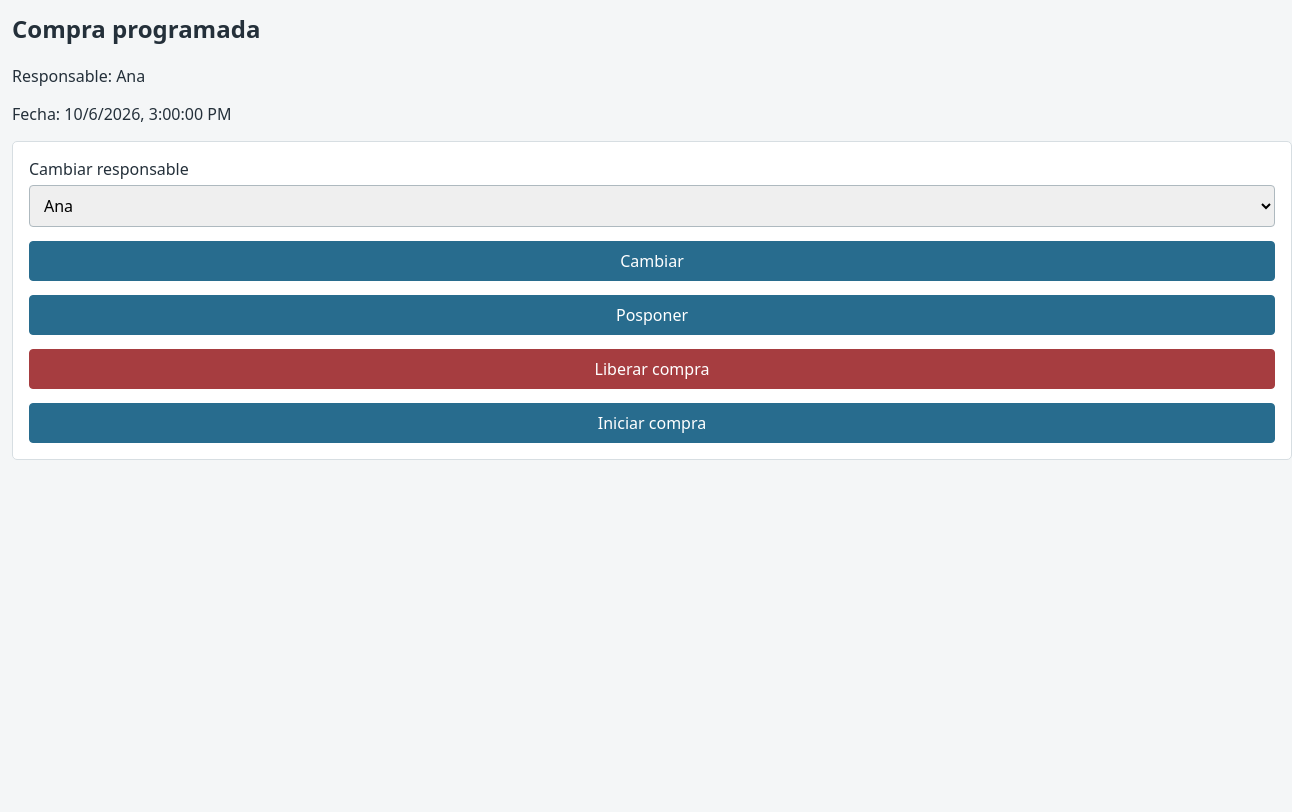
PurchasePage › la postergación valida la fecha y sólo cierra tras éxito (resultado: success)
The width and height of the screenshot is (1292, 812).
Click the button "Posponer" at (652, 315), box [29,295,1275,335]
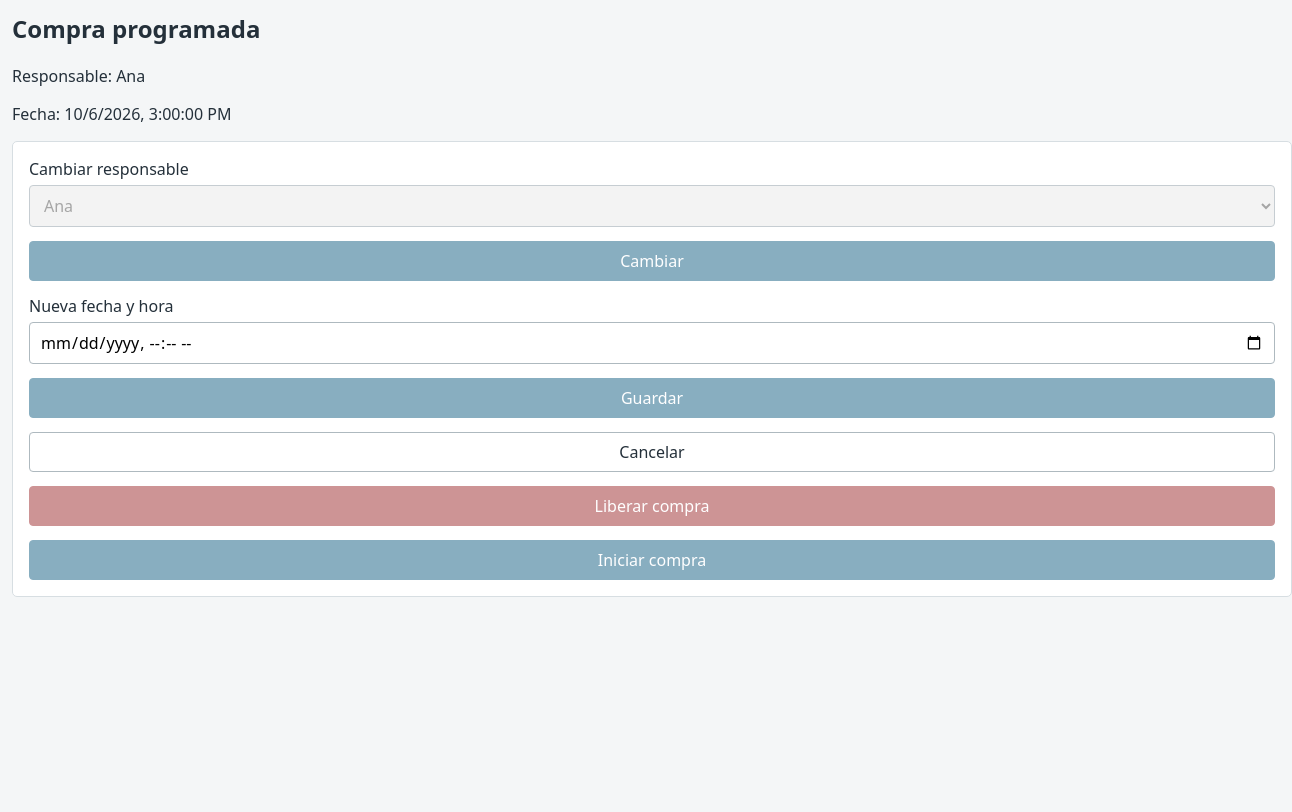
Result: the button "Guardar" is disabled at [29,378,1275,418]
Type "2026-10-06T15:05" into the field labelled "Nueva fecha y hora" at (652, 343), box [29,322,1275,364]
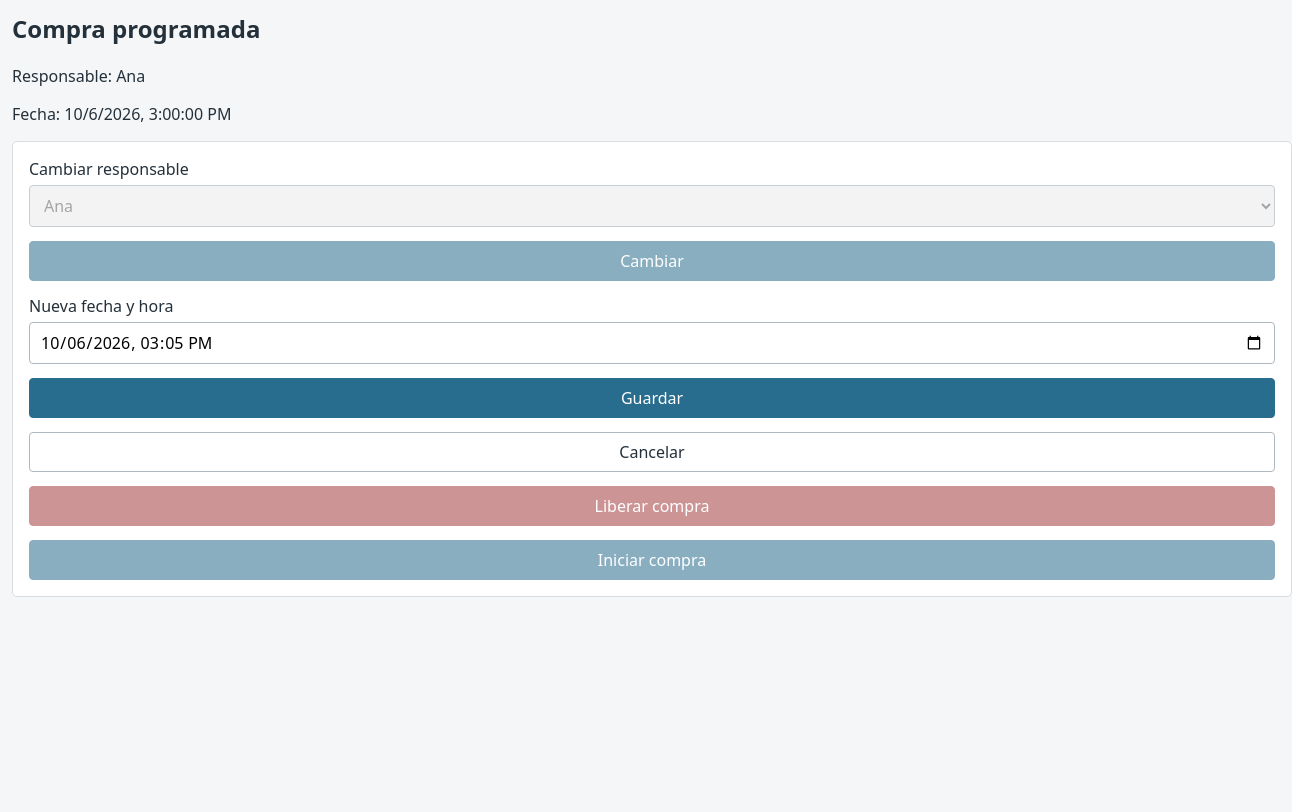
Click the button "Guardar" at (652, 398), box [29,378,1275,418]
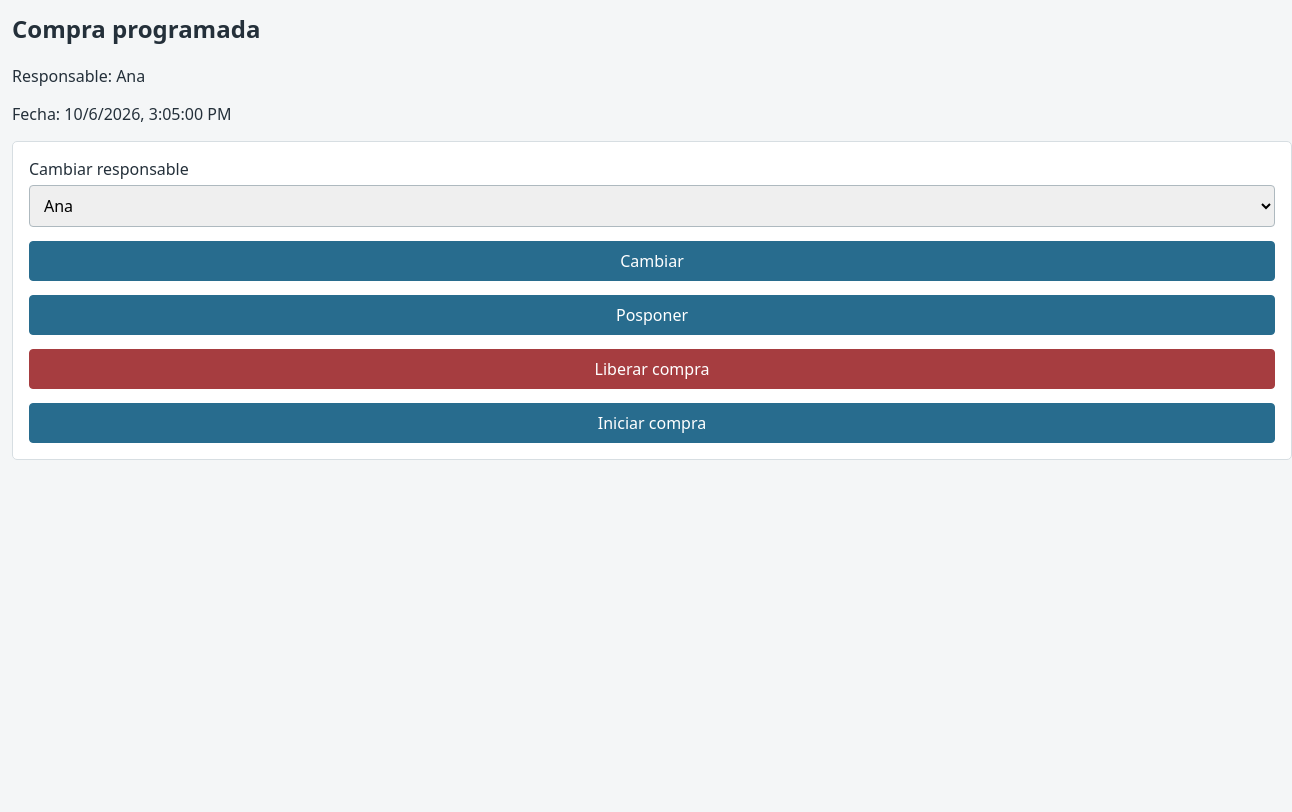
Result: the button "Posponer" is shown at [29,295,1275,335]
Result: the label labelled "Nueva fecha y hora" is gone
